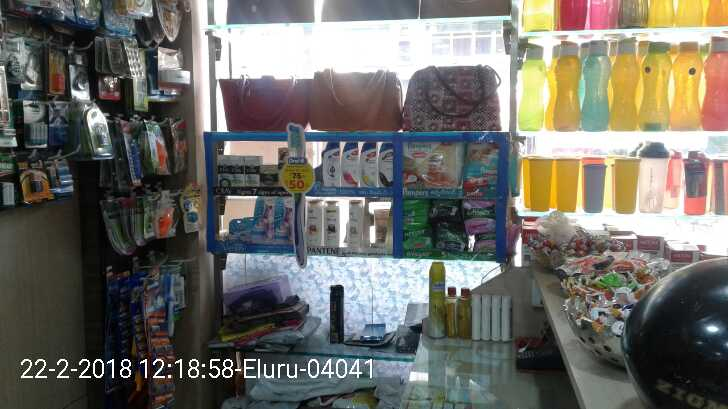venus: (257, 196, 275, 240), (276, 196, 292, 243), (242, 217, 255, 239), (229, 220, 241, 237)
